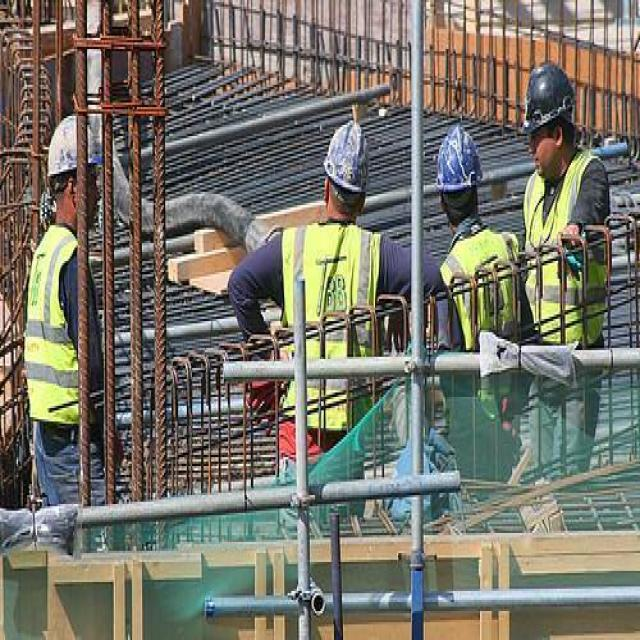Vest: (273, 221, 384, 430), (521, 150, 605, 343), (24, 221, 95, 430), (437, 223, 522, 350)
